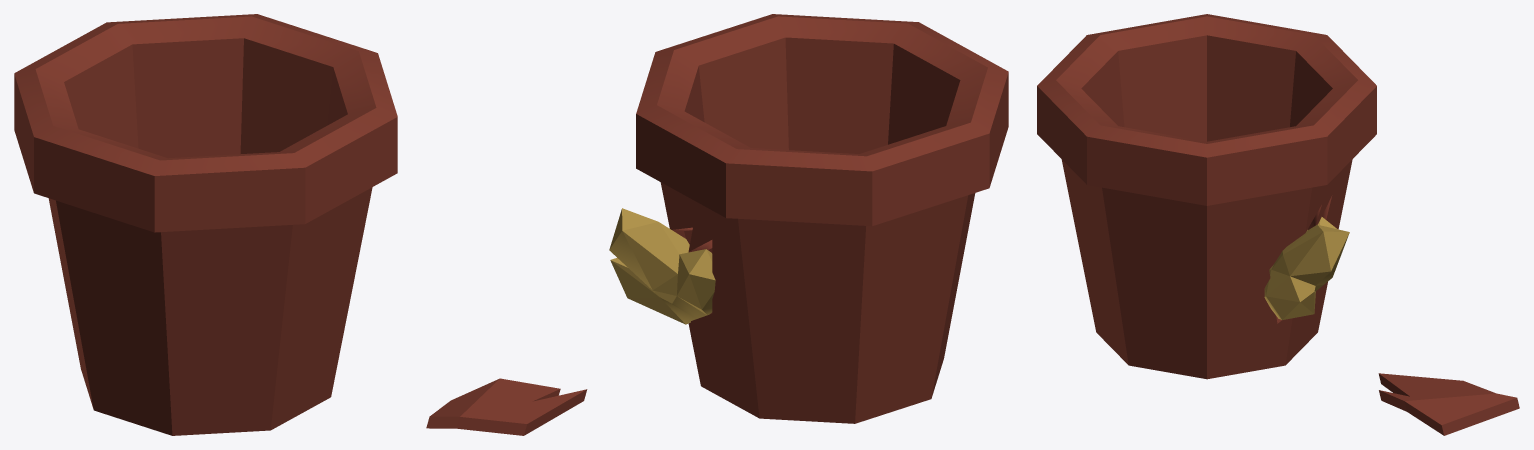
File: PlantPot-3-Broken-EggInside.fbx
3 views of the same model, side by side, from view 1: azimuth 30°, elevation 25°; view 2: azimuth 150°, elevation 25°; view 3: azimuth 270°, elevation 25° (orthographic). The views are drawn at different scales.
Parts seen in each view (by area): view 1: PlantPot; view 2: PlantPot, EggNEst, PlantPot-BrokenPiece; view 3: PlantPot, PlantPot-BrokenPiece, EggNEst.
Boxes of the visible parts, x1,y1,x2,y2 form: PlantPot: (14,14,397,435); PlantPot: (636,14,1008,423); EggNEst: (609,208,715,324); PlantPot-BrokenPiece: (426,378,587,435); PlantPot: (1037,14,1376,379); PlantPot-BrokenPiece: (1378,373,1519,435); EggNEst: (1264,217,1349,319).
Bounding box in the file's own units: 427 × 287 × 497.
